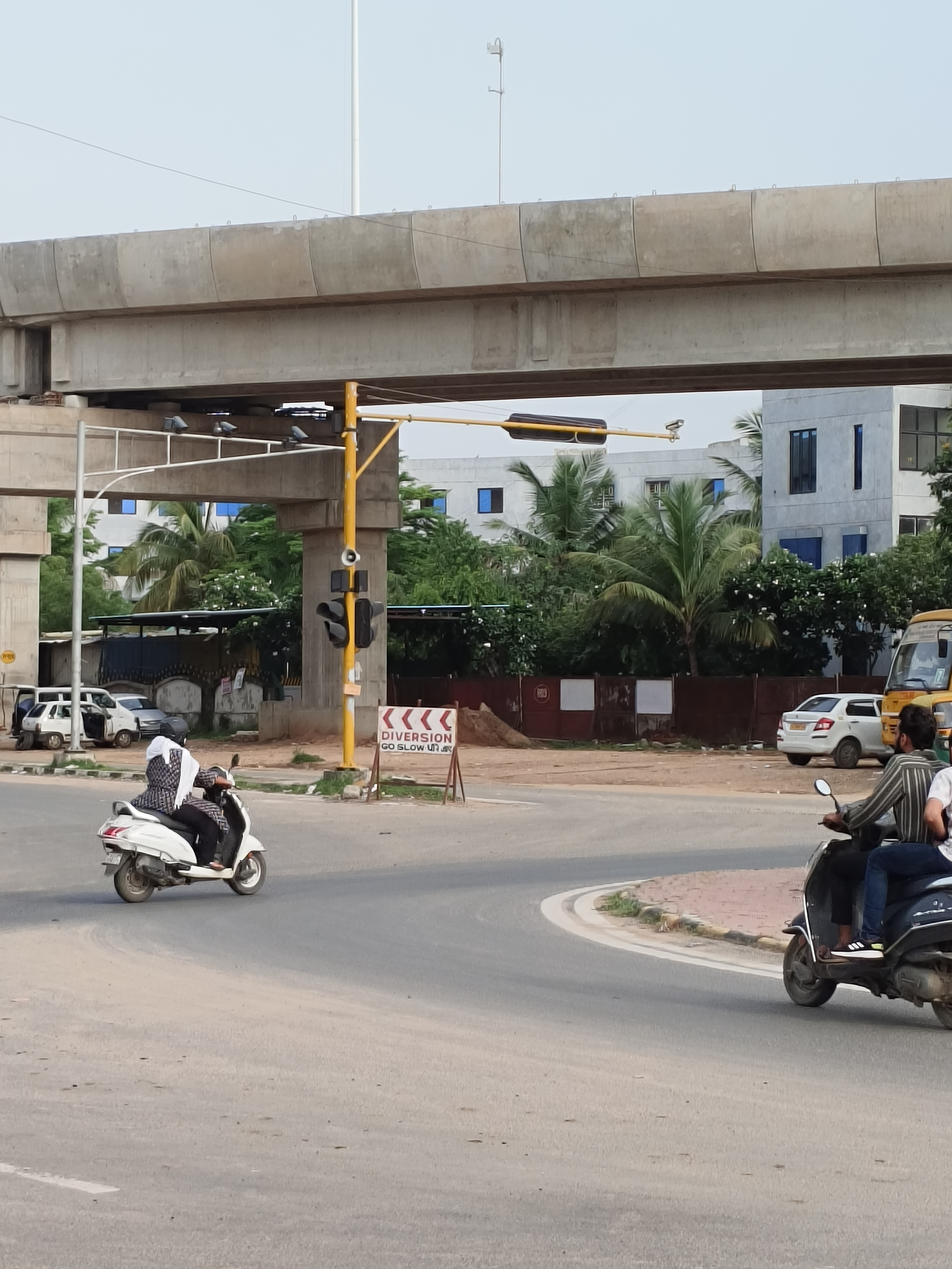BikeWithRider: (768, 690, 952, 1036), (89, 711, 274, 907)
Helmet: (156, 712, 193, 750)
NoHelmet: (887, 699, 941, 763)
